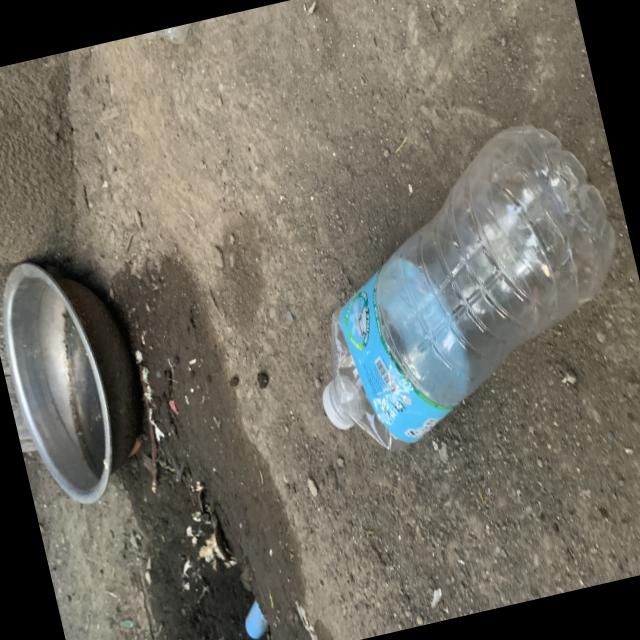Bottle: (322, 124, 614, 448)
